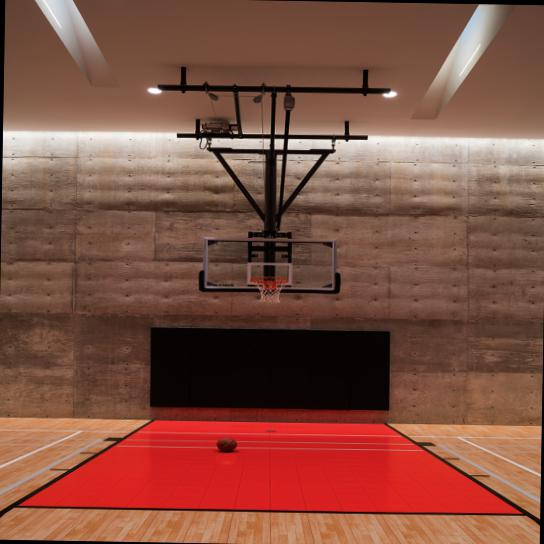basketball-hoop: (246, 273, 290, 305)
